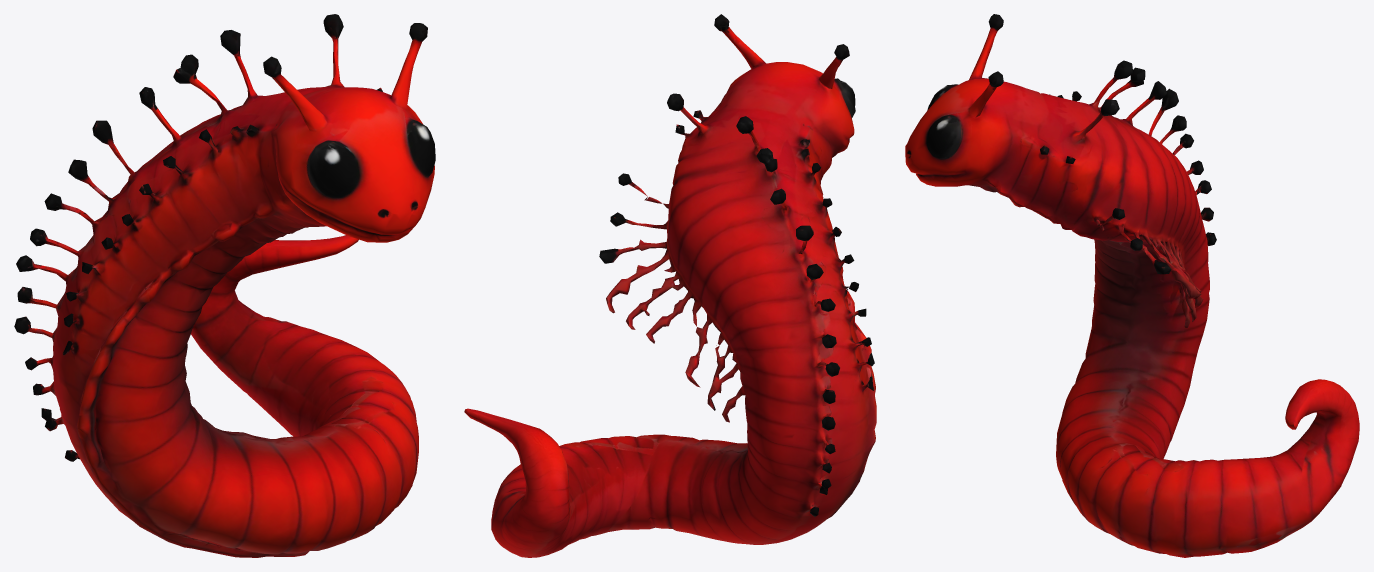
Rendered from monster_70.glb.
3 renders of one model, left to right at view 1: azimuth 30°, elevation 25°; view 2: azimuth 150°, elevation 25°; view 3: azimuth 270°, elevation 25°, orthographic. The views are drawn at different scales.
Parts seen in each view (by area): view 1: Toxic_Worm_1111123953_texture; view 2: Toxic_Worm_1111123953_texture; view 3: Toxic_Worm_1111123953_texture.
Boxes of the visible parts, x1,y1,x2,y2 form: Toxic_Worm_1111123953_texture: (14,14,435,557); Toxic_Worm_1111123953_texture: (464,14,876,557); Toxic_Worm_1111123953_texture: (905,14,1359,557).
Size of the model in its own units: 1.42 by 1.91 by 1.73.
1 material, 1 textured.
